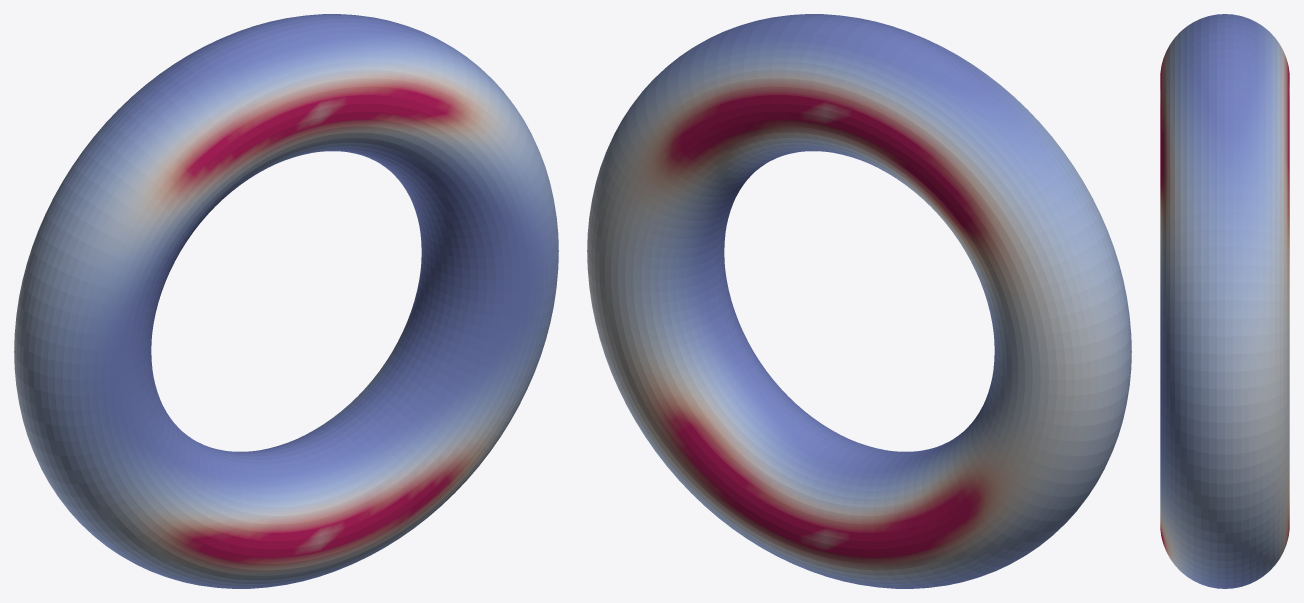
3 views of the same model, side by side, from view 1: azimuth 30°, elevation 25°; view 2: azimuth 150°, elevation 25°; view 3: azimuth 270°, elevation 25° (orthographic). The views are drawn at different scales.
Parts seen in each view (by area): view 1: world; view 2: world; view 3: world.
Boxes of the visible parts, x1,y1,x2,y2 form: world: [14, 14, 558, 588]; world: [587, 14, 1131, 588]; world: [1160, 14, 1289, 588].
Size of the model in its own units: 20.67 by 20.67 by 4.66.
